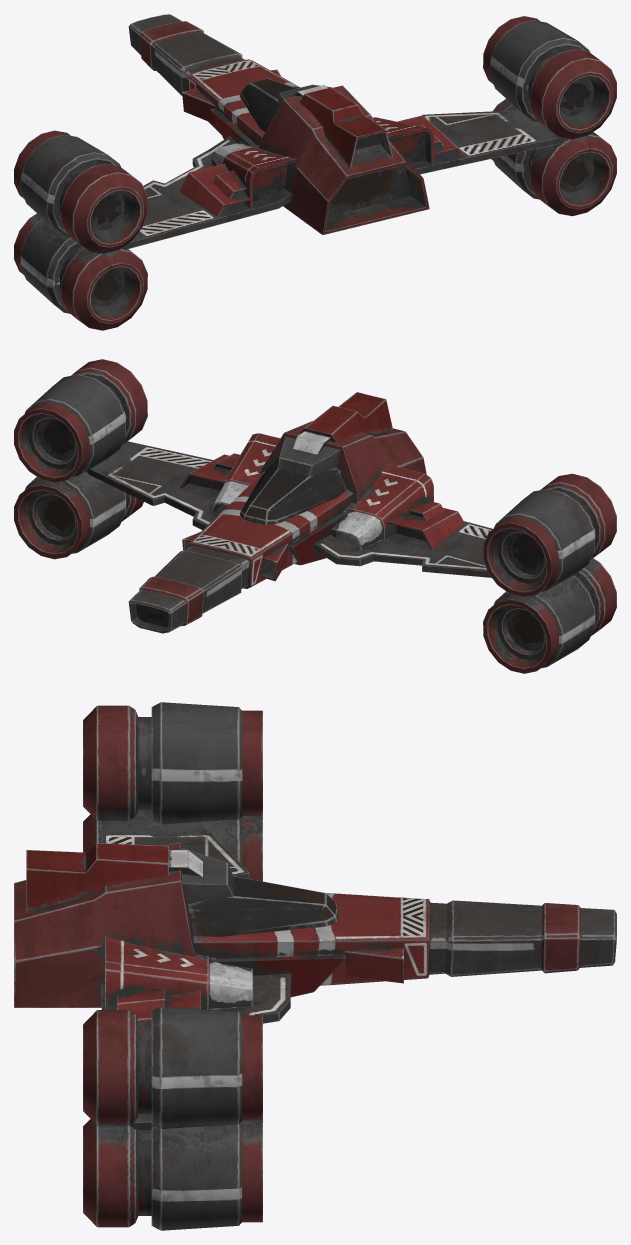
Rendered from Spitfire.obj.
3 views of the same model, one above another, from view 1: azimuth 30°, elevation 25°; view 2: azimuth 150°, elevation 25°; view 3: azimuth 270°, elevation 25° (orthographic). The views are drawn at different scales.
Visible parts, largest first — view 1: Spitfire_Cube.017; view 2: Spitfire_Cube.017; view 3: Spitfire_Cube.017.
Part boxes in pixels (left/top/right/bottom): Spitfire_Cube.017: left=14, top=14, right=616, bottom=330; Spitfire_Cube.017: left=14, top=359, right=616, bottom=673; Spitfire_Cube.017: left=14, top=702, right=616, bottom=1230.
Bounding box in the file's own units: 10.52 × 3.06 × 7.53.
Materials: 1 (1 with a texture image).
